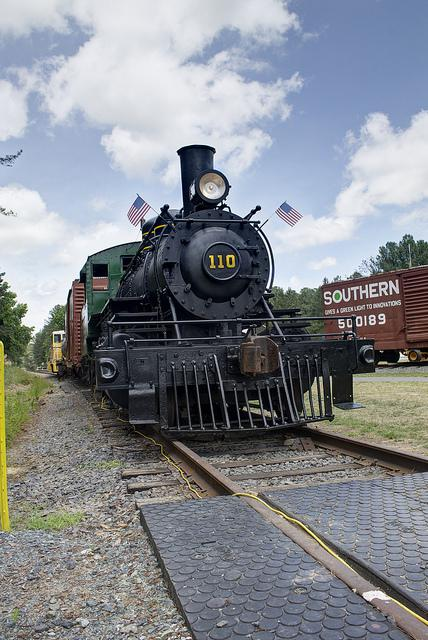Train: (50, 145, 340, 449), (322, 267, 428, 365)
